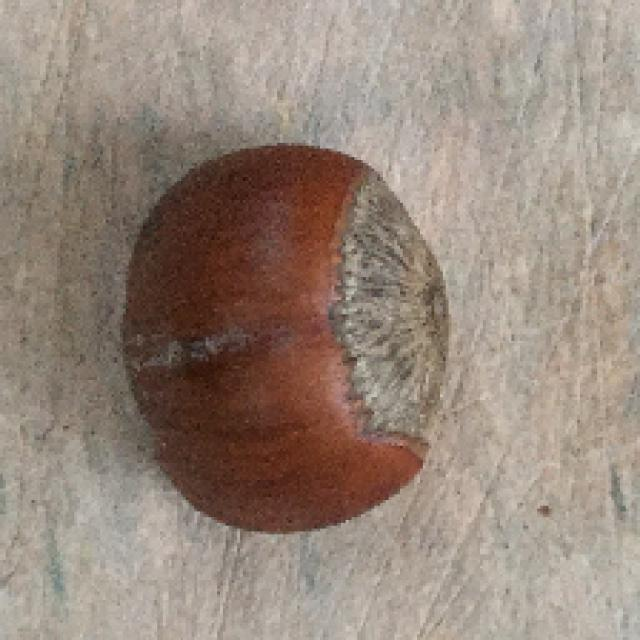damagedHazelnut: (123, 134, 451, 543)
